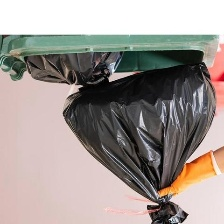plastic_bag: (60, 57, 223, 224), (18, 46, 128, 103)
